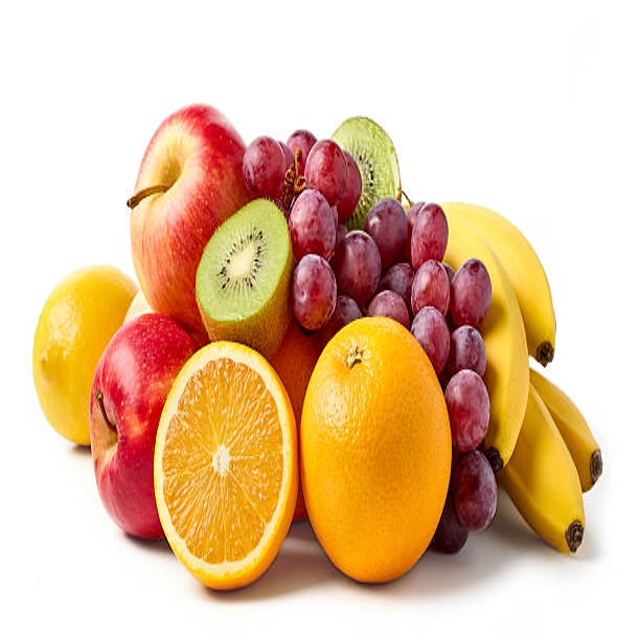apple: (99, 332, 157, 550), (128, 123, 232, 244)
banana: (475, 193, 609, 547)
orange: (310, 323, 436, 580), (166, 350, 285, 586)
